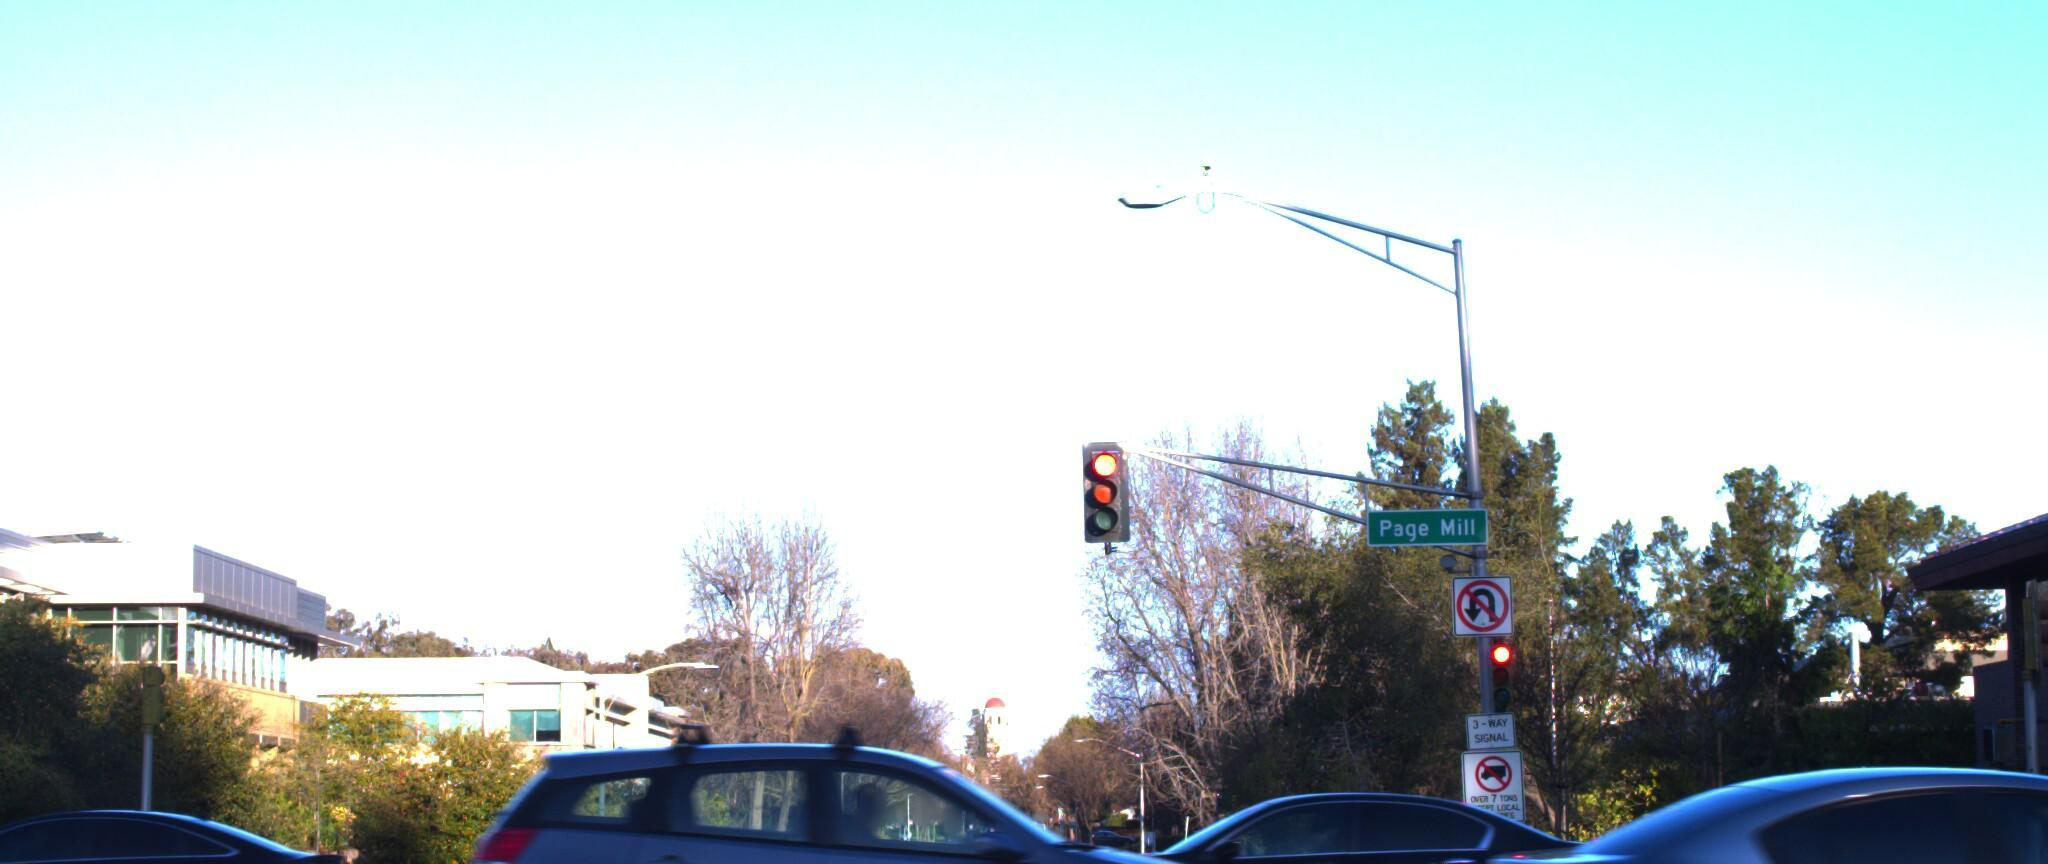car: (421, 726, 1304, 864), (1388, 761, 2048, 864), (963, 790, 1614, 864), (0, 790, 371, 864)
